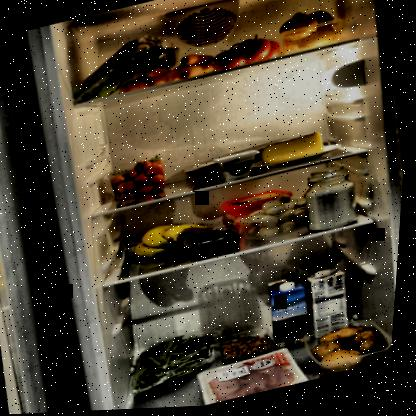banana: (132, 212, 227, 263)
blueberries: (190, 228, 248, 262)
butter: (220, 187, 303, 239)
carrot: (118, 48, 219, 96)
cheese: (260, 132, 330, 171)
green_beans: (129, 326, 231, 398)
milk: (303, 266, 364, 347), (265, 275, 324, 355)
mushrooms: (237, 189, 327, 245)
onion: (276, 7, 342, 59)
potato: (308, 317, 398, 384)
shrimp: (224, 332, 277, 367)
spinach: (64, 43, 188, 106)
strawberries: (104, 156, 174, 206)
tomato: (210, 32, 287, 76)
